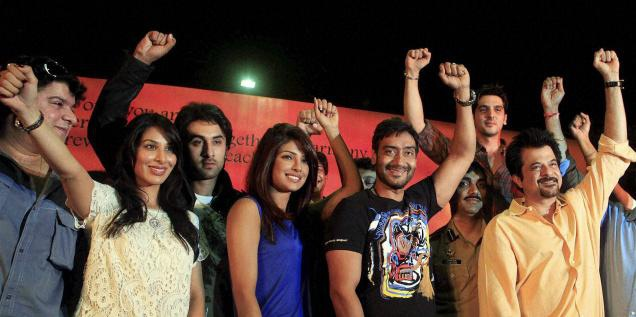bad: (37, 84, 89, 136), (136, 137, 180, 180), (184, 132, 228, 175), (376, 142, 419, 185), (271, 142, 314, 185), (525, 151, 568, 194), (473, 98, 509, 134)
